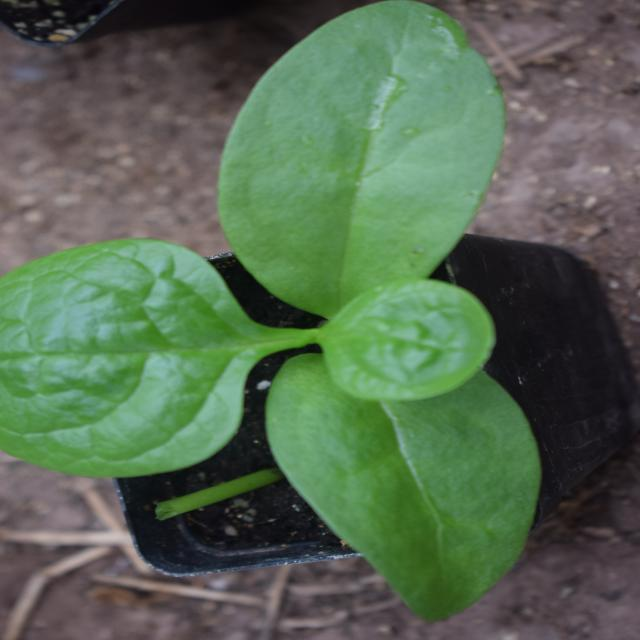Ceylon spinach: (86, 7, 627, 554)
